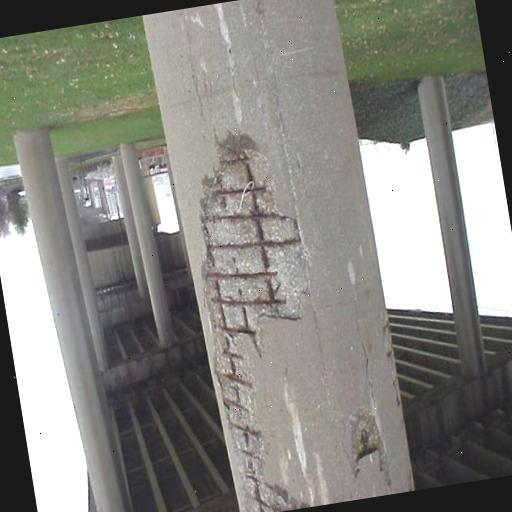spalling: (204, 150, 309, 512), (350, 412, 393, 479)
